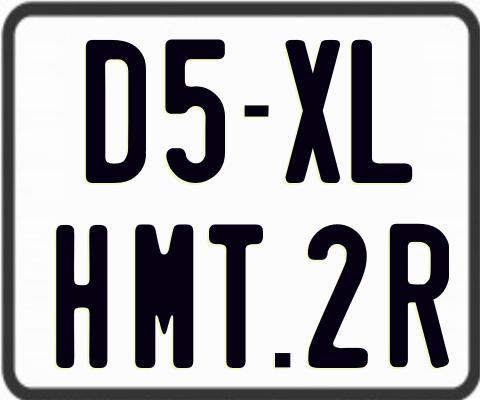2: (306, 223, 370, 372)
5: (162, 36, 223, 185)
D: (86, 38, 152, 187)
H: (55, 224, 108, 367)
L: (349, 37, 411, 185)
M: (132, 221, 193, 367)
R: (388, 224, 450, 369)
T: (206, 221, 262, 365)
X: (284, 38, 345, 184)
